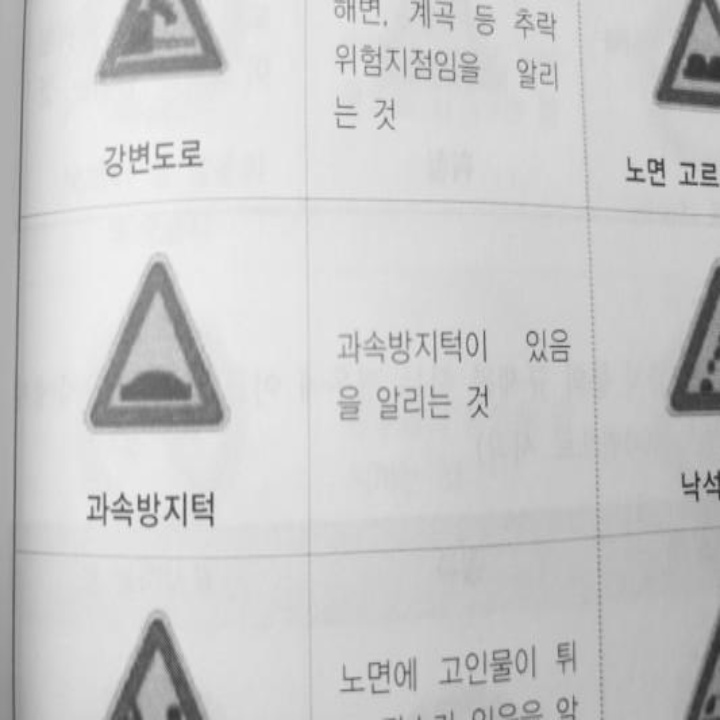bump: (102, 351, 198, 406)
